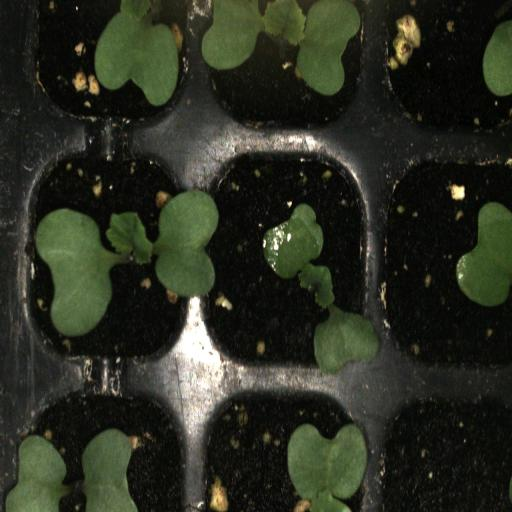seedling: (11, 136, 199, 382), (200, 134, 375, 380), (12, 382, 197, 512), (199, 0, 374, 135)
